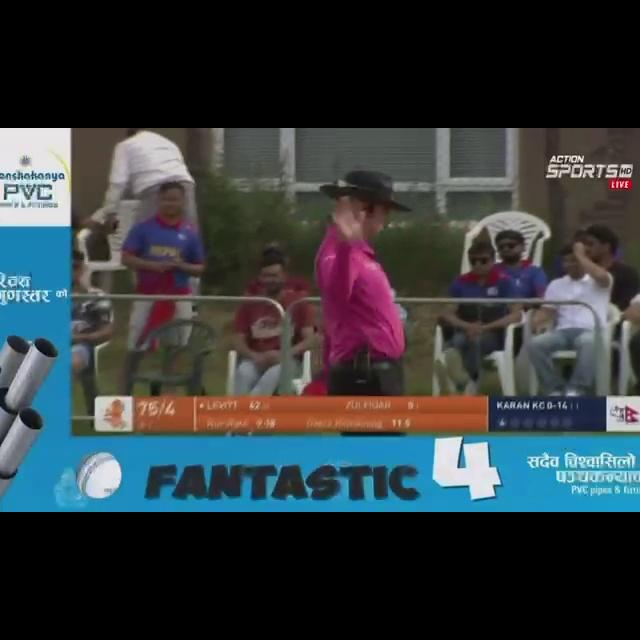umpire: (261, 150, 471, 385)
